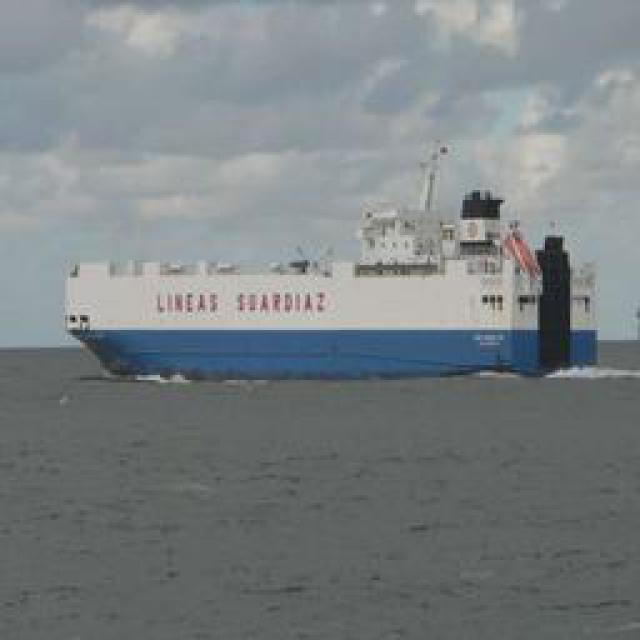Ship: (72, 127, 600, 380)
